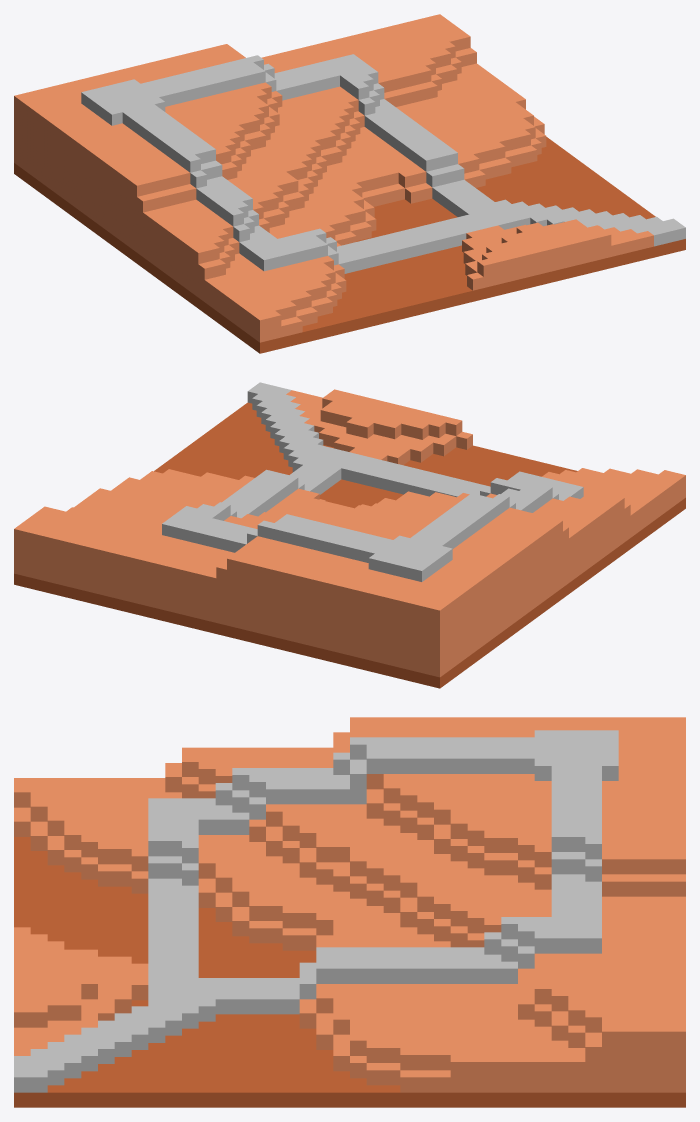
Rendered from map.obj.
3 views of the same model, one above another, from view 1: azimuth 30°, elevation 25°; view 2: azimuth 150°, elevation 25°; view 3: azimuth 270°, elevation 25° (orthographic). The views are drawn at different scales.
Bounding box in the file's own units: 4 × 0.8 × 4.
1 material, 1 textured.
